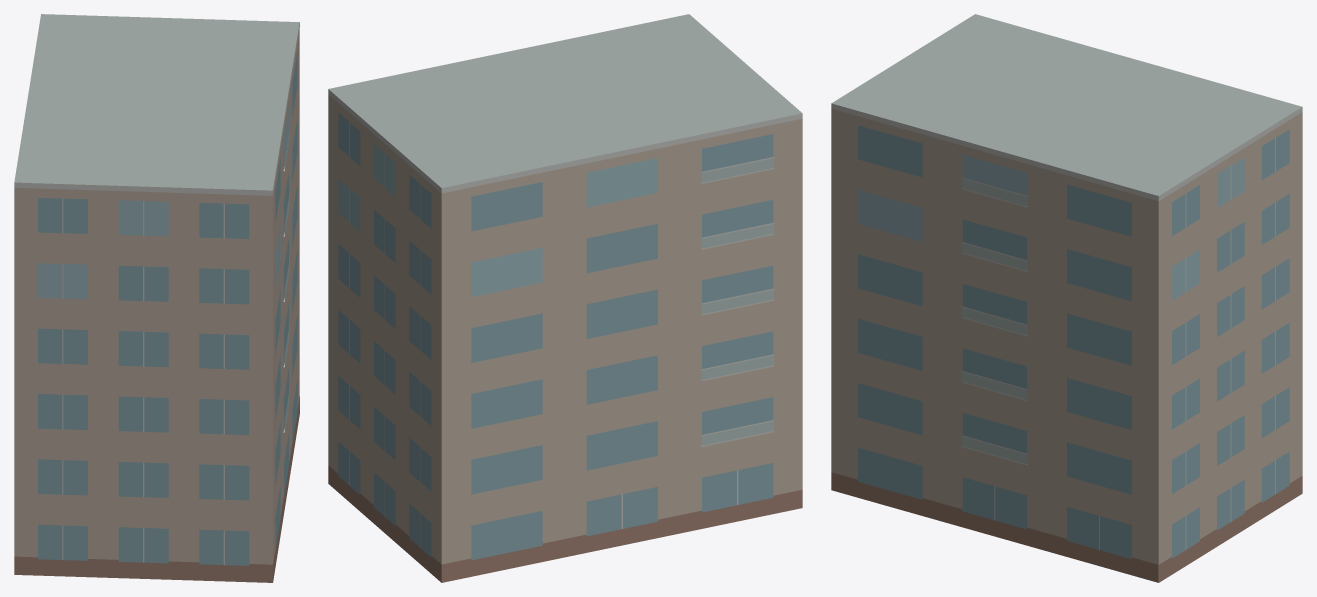
The model's file is survey-upis-32539141.glb.
The picture shows the model from 3 angles, left to right: view 1: azimuth 30°, elevation 25°; view 2: azimuth 150°, elevation 25°; view 3: azimuth 270°, elevation 25°; orthographic projection. The views are drawn at different scales.
Visible parts, largest first — view 1: survey-upis-32539141.tmp; view 2: survey-upis-32539141.tmp; view 3: survey-upis-32539141.tmp.
Part boxes in pixels (box(x1,y1,x2,y2)): survey-upis-32539141.tmp: box(14, 14, 299, 582); survey-upis-32539141.tmp: box(328, 14, 802, 582); survey-upis-32539141.tmp: box(831, 14, 1302, 582).
Bounding box in the file's own units: 18.49 × 18.3 × 20.22.
